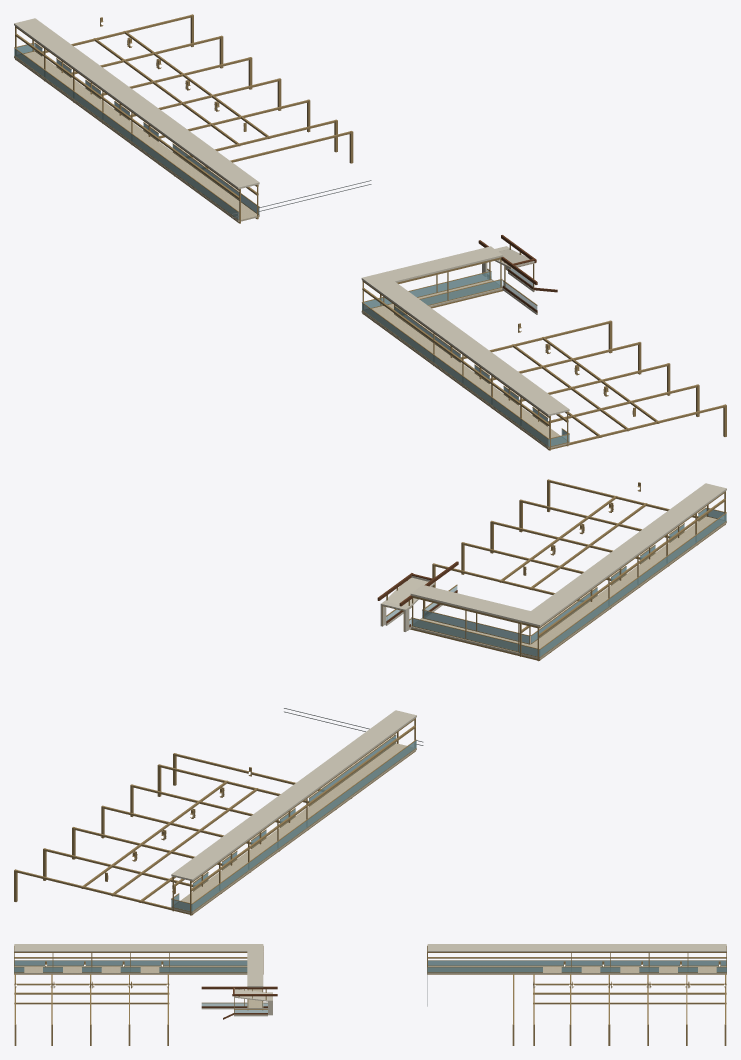
Rendered from D17_STARBOARD_STANDARD_FRAME_r002.glb.
The picture shows the model from 3 angles, top to bottom: view 1: azimuth 30°, elevation 25°; view 2: azimuth 150°, elevation 25°; view 3: azimuth 270°, elevation 25°; orthographic projection. The views are drawn at different scales.
Parts seen in each view (by area): view 1: SBS_Roof0_000_0, SBS_Roof0_001_0, SBS_Roof1_000_0, SBS_Roof1_001_0, SBS_Floor0_001_0, SBS_Fore_Outer_000_0, SBS_Fore_Outer_001_0, SBS_Aft_Outer_000_0, SBS_Floor1_001_0, SBS_Aft_Outer_001_0, SBS_Floor0_000_0, SBS_Floor1_000_0 (+5 smaller); view 2: SBS_Roof0_000_0, SBS_Roof0_001_0, SBS_Roof1_000_0, SBS_Roof1_001_0, SBS_Floor0_001_0, SBS_Fore_Outer_000_0, SBS_Fore_Outer_001_0, SBS_Aft_Outer_000_0, SBS_Floor1_001_0, SBS_Aft_Outer_001_0, SBS_Floor0_000_0, PATCH_CR_Batch_approach_ivory_enamel (+9 smaller); view 3: SBS_Fore_Outer_001_0, SBS_Roof0_001_0, SBS_Fore_Outer_000_0, SBS_Aft_Outer_001_0, SBS_Roof0_000_0, SBS_Roof1_001_0, SBS_Aft_Outer_000_0, SBS_Roof1_000_0, SBS_Fore_InnerLast_001_0, SBS_Floor0_000_0, SBS_Floor1_001_0, PATCH_CR_Batch_approach_warm_walnut (+25 smaller).
Boxes of the visible parts, x1=… form: SBS_Roof0_000_0: x1=14, y1=18, x2=238, y2=188; SBS_Roof0_001_0: x1=38, y1=20, x2=259, y2=189; SBS_Roof1_000_0: x1=361, y1=278, x2=548, y2=415; SBS_Roof1_001_0: x1=397, y1=283, x2=569, y2=416; SBS_Floor0_001_0: x1=42, y1=56, x2=259, y2=221; SBS_Fore_Outer_000_0: x1=14, y1=48, x2=238, y2=218; SBS_Fore_Outer_001_0: x1=15, y1=49, x2=238, y2=219; SBS_Aft_Outer_000_0: x1=362, y1=303, x2=548, y2=445; SBS_Floor1_001_0: x1=402, y1=320, x2=569, y2=448; SBS_Aft_Outer_001_0: x1=363, y1=304, x2=548, y2=446; SBS_Floor0_000_0: x1=14, y1=51, x2=238, y2=221; SBS_Floor1_000_0: x1=361, y1=311, x2=548, y2=448; SBS_Roof0_000_0: x1=171, y1=715, x2=416, y2=881; SBS_Roof0_001_0: x1=174, y1=710, x2=416, y2=872; SBS_Roof1_000_0: x1=531, y1=488, x2=726, y2=626; SBS_Roof1_001_0: x1=533, y1=483, x2=726, y2=609; SBS_Floor0_001_0: x1=180, y1=743, x2=406, y2=900; SBS_Fore_Outer_000_0: x1=192, y1=740, x2=416, y2=911; SBS_Fore_Outer_001_0: x1=192, y1=741, x2=416, y2=910; SBS_Aft_Outer_000_0: x1=540, y1=513, x2=726, y2=656; SBS_Floor1_001_0: x1=539, y1=516, x2=716, y2=638; SBS_Aft_Outer_001_0: x1=540, y1=514, x2=726, y2=656; SBS_Floor0_000_0: x1=171, y1=748, x2=416, y2=913; PATCH_CR_Batch_approach_ivory_enamel: x1=380, y1=576, x2=457, y2=631; SBS_Fore_Outer_001_0: x1=428, y1=960, x2=726, y2=965; SBS_Roof0_001_0: x1=427, y1=944, x2=726, y2=951; SBS_Fore_Outer_000_0: x1=428, y1=961, x2=725, y2=965; SBS_Aft_Outer_001_0: x1=14, y1=960, x2=247, y2=965; SBS_Roof0_000_0: x1=434, y1=944, x2=726, y2=950; SBS_Roof1_001_0: x1=14, y1=944, x2=247, y2=951; SBS_Aft_Outer_000_0: x1=15, y1=961, x2=246, y2=965; SBS_Roof1_000_0: x1=20, y1=944, x2=262, y2=950; SBS_Fore_InnerLast_001_0: x1=427, y1=967, x2=542, y2=972; SBS_Floor0_000_0: x1=451, y1=966, x2=726, y2=972; SBS_Floor1_001_0: x1=14, y1=966, x2=247, y2=973; PATCH_CR_Batch_approach_warm_walnut: x1=201, y1=986, x2=277, y2=1019.
Bounding box in the file's own units: 26.49 × 9 × 133.
Materials: 12 (8 with a texture image).
